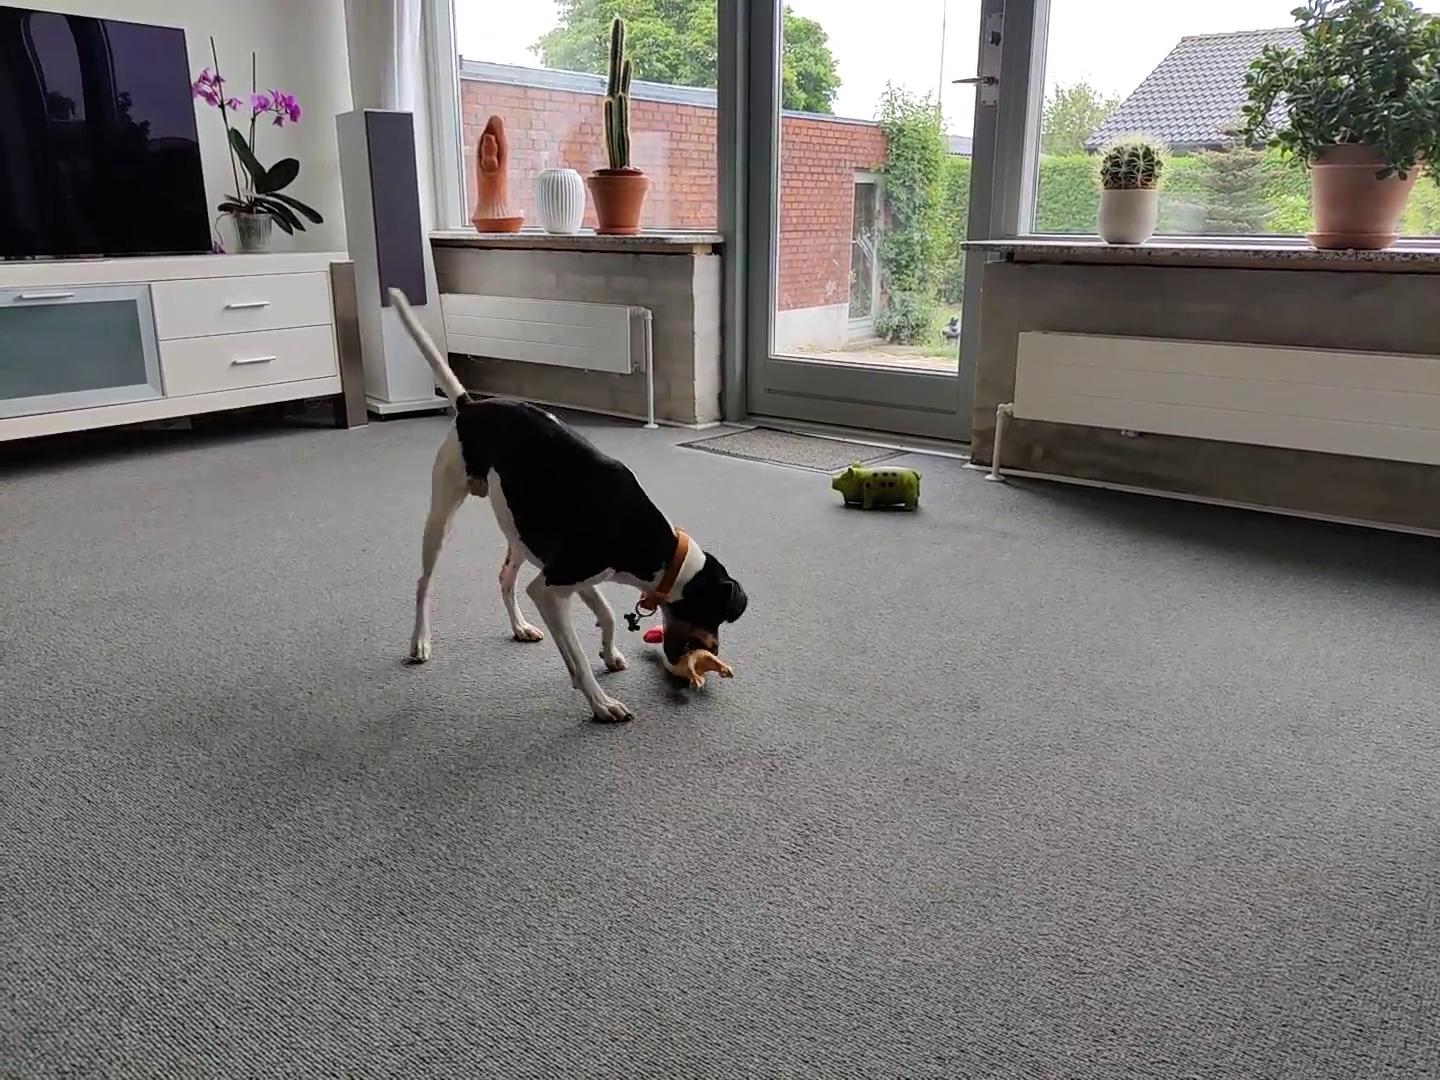Dog: (386, 277, 749, 724)
